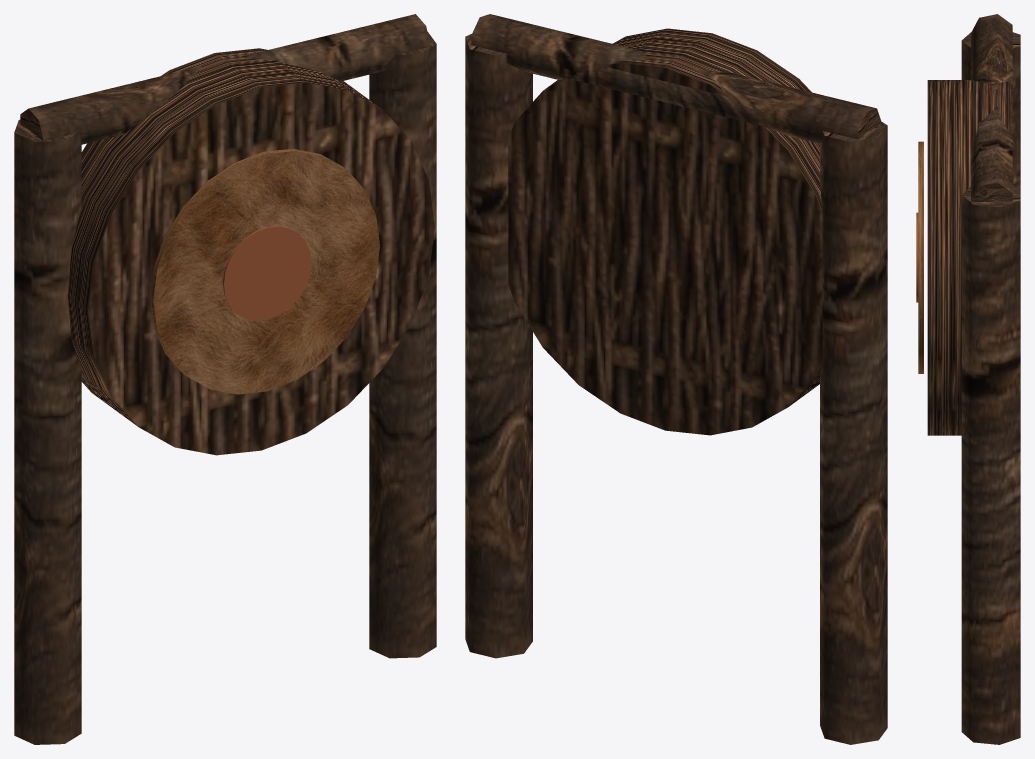
Rendered from target.glb.
The picture shows the model from 3 angles, left to right: view 1: azimuth 30°, elevation 25°; view 2: azimuth 150°, elevation 25°; view 3: azimuth 270°, elevation 25°; orthographic projection. The views are drawn at different scales.
Visible parts, largest first — view 1: part_0, part_1, part_2, part_3; view 2: part_1, part_0; view 3: part_0, part_1, part_2, part_3.
Part boxes in pixels (left/top/right/bottom): part_0: left=14, top=14, right=436, bottom=744; part_1: left=67, top=48, right=434, bottom=455; part_2: left=150, top=148, right=379, bottom=394; part_3: left=223, top=225, right=311, bottom=320; part_1: left=508, top=28, right=822, bottom=435; part_0: left=465, top=14, right=887, bottom=744; part_0: left=961, top=14, right=1020, bottom=744; part_1: left=927, top=80, right=1011, bottom=435; part_2: left=918, top=141, right=923, bottom=373; part_3: left=916, top=212, right=918, bottom=302.
Bounding box in the file's own units: 0.6602 × 0.957 × 0.1617.
4 materials, 3 textured.
